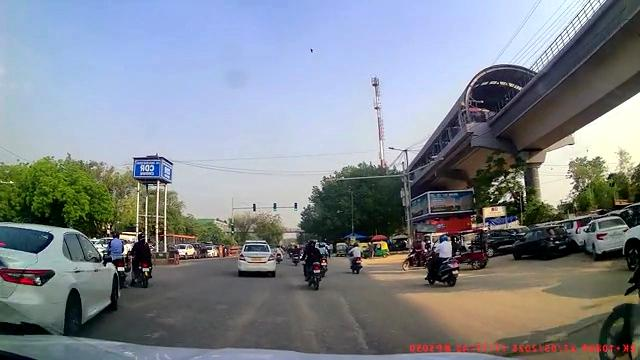motorcycle_with_helmet: (423, 234, 460, 287), (301, 238, 327, 291), (130, 232, 154, 288)
